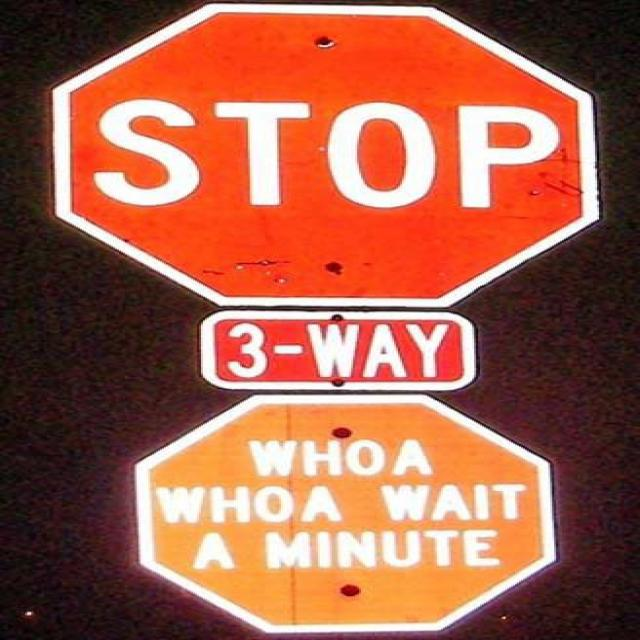stop: (67, 12, 586, 300)
